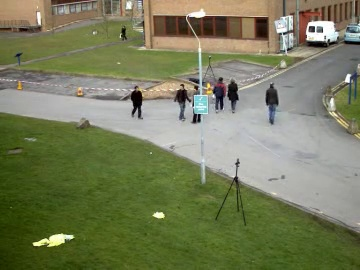person: (174, 82, 191, 120), (126, 84, 142, 119), (128, 83, 143, 119)
